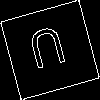U: (25, 24, 72, 79)
